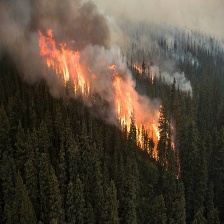fire: (113, 78, 180, 167), (39, 35, 89, 92)
smoke: (2, 2, 137, 89)
